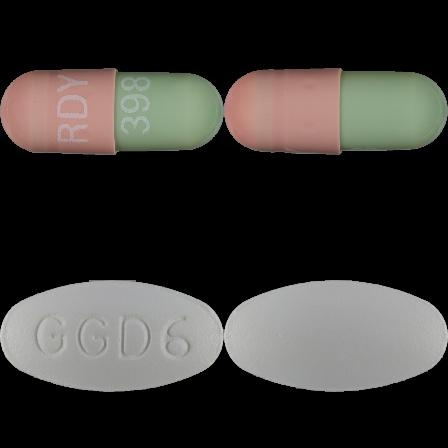63739-574: (0, 0, 224, 224)
